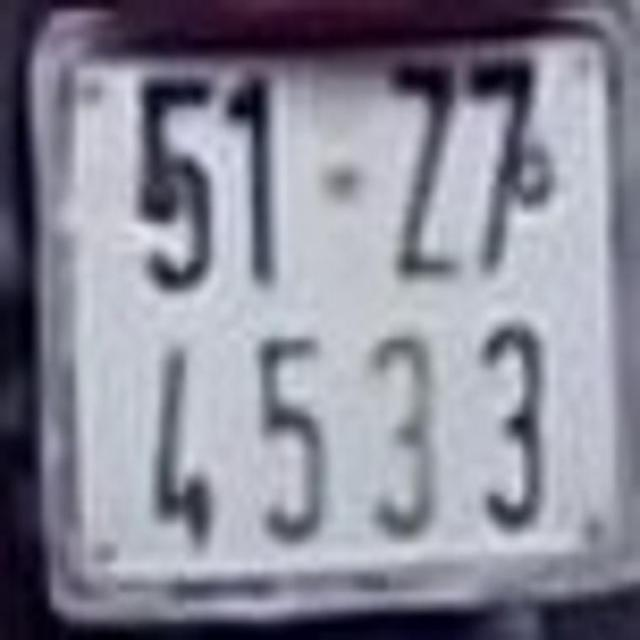1: (224, 65, 284, 289)
3: (468, 316, 552, 534), (362, 328, 440, 533)
4: (149, 338, 222, 553)
5: (131, 72, 218, 298), (244, 329, 334, 546)
7: (468, 54, 543, 272)
Z: (375, 57, 465, 282)
